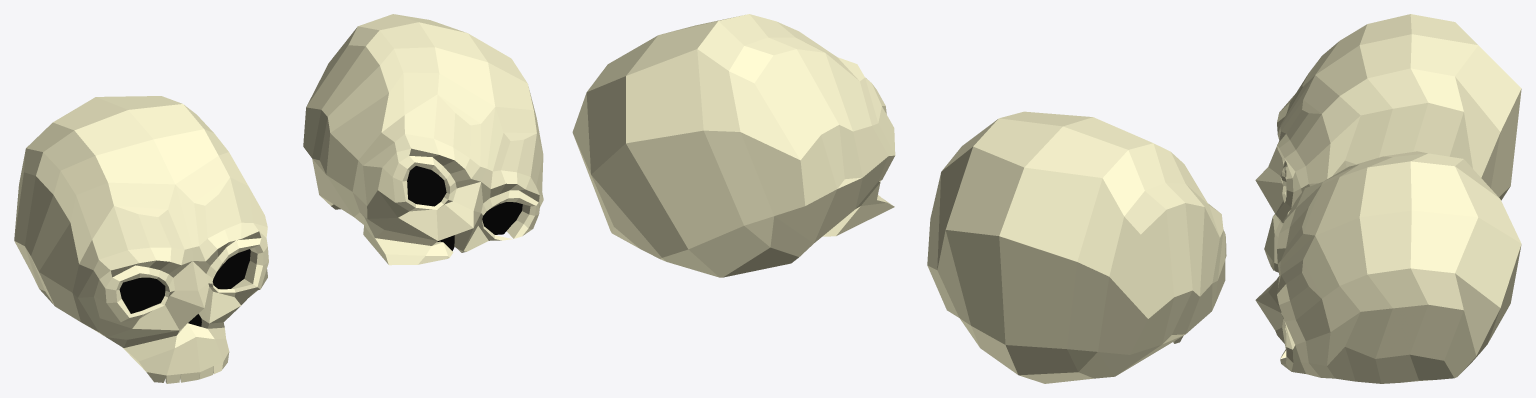
File: skull.fbx
3 renders of one model, left to right at view 1: azimuth 30°, elevation 25°; view 2: azimuth 150°, elevation 25°; view 3: azimuth 270°, elevation 25°, orthographic. The views are drawn at different scales.
Parts seen in each view (by area): view 1: skull, skull.broken, darkness.001, darkness; view 2: skull.broken, skull; view 3: skull.broken, skull.
Part boxes in pixels (x1,y1,x2,y2): skull: (14,96,268,383); skull.broken: (303,14,543,265); darkness.001: (407,166,522,250); darkness: (119,249,250,326); skull.broken: (572,14,895,277); skull: (927,111,1226,383); skull.broken: (1255,151,1521,383); skull: (1255,14,1521,272).
Size of the model in its own units: 412 by 188 by 187.
